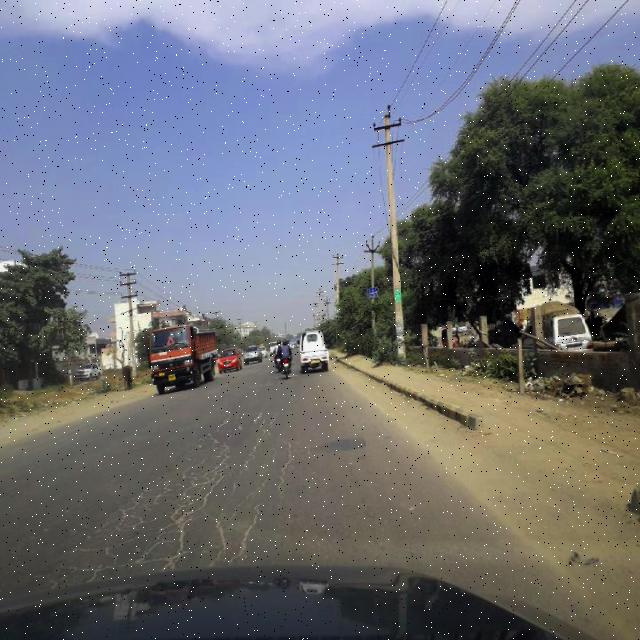D00: (231, 431, 297, 568)
D20: (58, 422, 248, 576)
